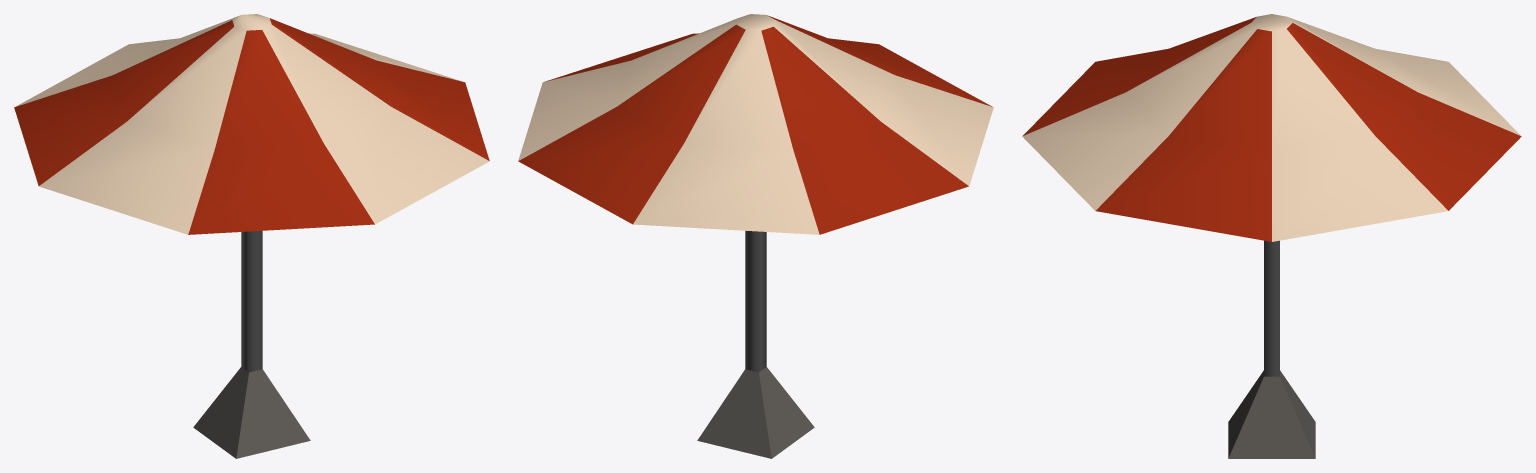
The model's file is Umbrella_A2.fbx.
3 views of the same model, side by side, from view 1: azimuth 30°, elevation 25°; view 2: azimuth 150°, elevation 25°; view 3: azimuth 270°, elevation 25° (orthographic).
Parts seen in each view (by area): view 1: Umbrella_A2; view 2: Umbrella_A2; view 3: Umbrella_A2.
Boxes of the visible parts, <box> form: Umbrella_A2: <box>14,14,489,458</box>; Umbrella_A2: <box>518,14,993,458</box>; Umbrella_A2: <box>1022,14,1521,458</box>.
Size of the model in its own units: 293 by 270 by 293.
